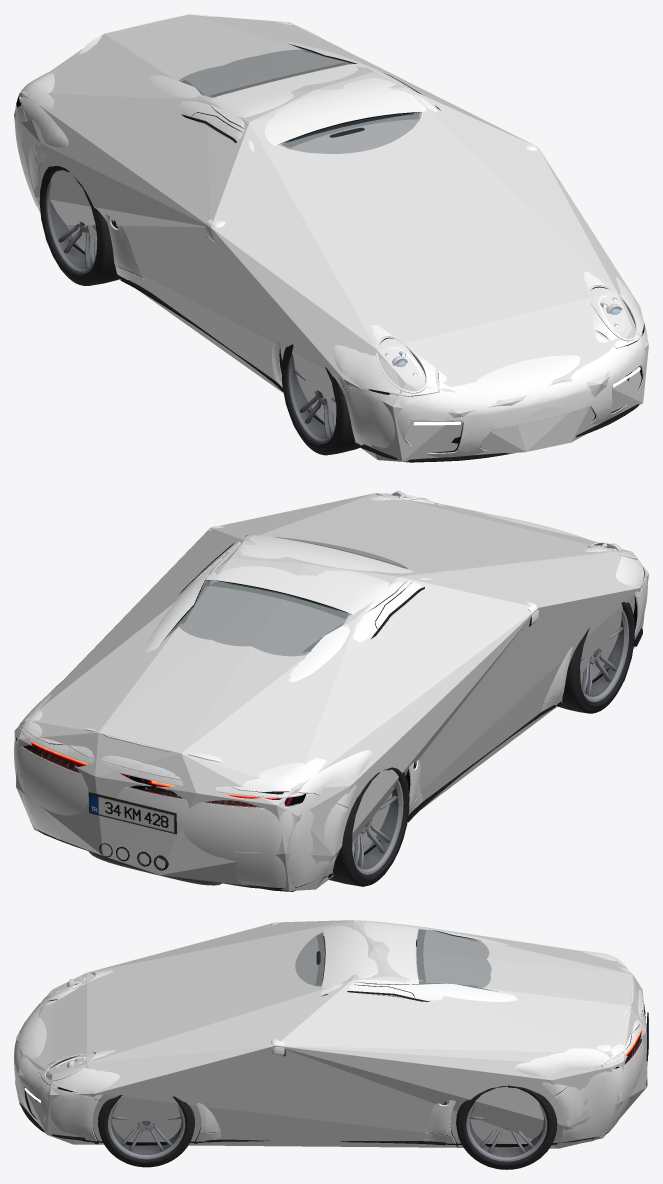
The model's file is kestrel_marten_lod0.glb.
3 views of the same model, one above another, from view 1: azimuth 30°, elevation 25°; view 2: azimuth 150°, elevation 25°; view 3: azimuth 270°, elevation 25° (orthographic). The views are drawn at different scales.
Parts seen in each view (by area): view 1: col_body, body, glass, wheel_RR, wheel_FR, trim, lights_front; view 2: col_body, body, glass, wheel_RR, wheel_FR, trim, lights_rear, plate_rear, exhaust, underbody; view 3: col_body, body, glass, wheel_RL, wheel_FL, trim, lights_front, underbody.
Part boxes in pixels (box(x1,y1,x2,y2)): col_body: box(14, 14, 648, 461); body: box(15, 14, 647, 457); glass: box(179, 46, 421, 153); wheel_RR: box(39, 166, 119, 285); wheel_FR: box(281, 344, 359, 455); trim: box(20, 44, 644, 461); lights_front: box(380, 287, 640, 425); col_body: box(14, 492, 648, 890); body: box(14, 493, 647, 887); glass: box(167, 537, 407, 655); wheel_RR: box(329, 767, 409, 886); wheel_FR: box(558, 602, 634, 713); trim: box(49, 535, 644, 870); lights_rear: box(15, 737, 306, 854); plate_rear: box(89, 794, 174, 833); exhaust: box(88, 491, 622, 885); underbody: box(37, 597, 637, 891); col_body: box(15, 920, 647, 1148); body: box(14, 920, 645, 1143); glass: box(295, 929, 496, 996); wheel_RL: box(456, 1085, 557, 1169); wheel_FL: box(98, 1095, 194, 1167); trim: box(20, 930, 648, 1145); lights_front: box(24, 974, 94, 1102); underbody: box(82, 1100, 610, 1147).
Bounding box in the file's own units: 2 × 1.27 × 4.34.
13 materials, 2 textured.
